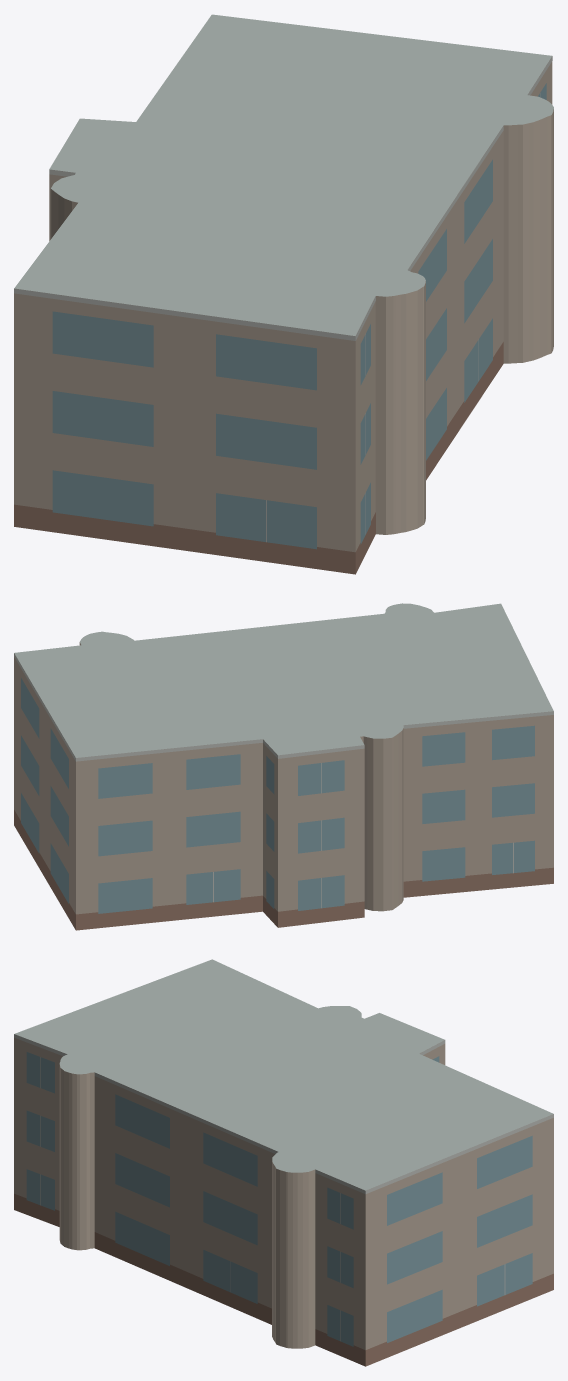
File: survey-upis-32833063.glb
3 renders of one model, top to bottom at view 1: azimuth 30°, elevation 25°; view 2: azimuth 150°, elevation 25°; view 3: azimuth 270°, elevation 25°, orthographic. The views are drawn at different scales.
Visible parts, largest first — view 1: survey-upis-32833063.tmp; view 2: survey-upis-32833063.tmp; view 3: survey-upis-32833063.tmp.
Part boxes in pixels (bbox=[...]): survey-upis-32833063.tmp: bbox=[14, 14, 553, 574]; survey-upis-32833063.tmp: bbox=[14, 603, 553, 930]; survey-upis-32833063.tmp: bbox=[14, 959, 553, 1366].
Bounding box in the file's own units: 33.14 × 11.75 × 32.68.
